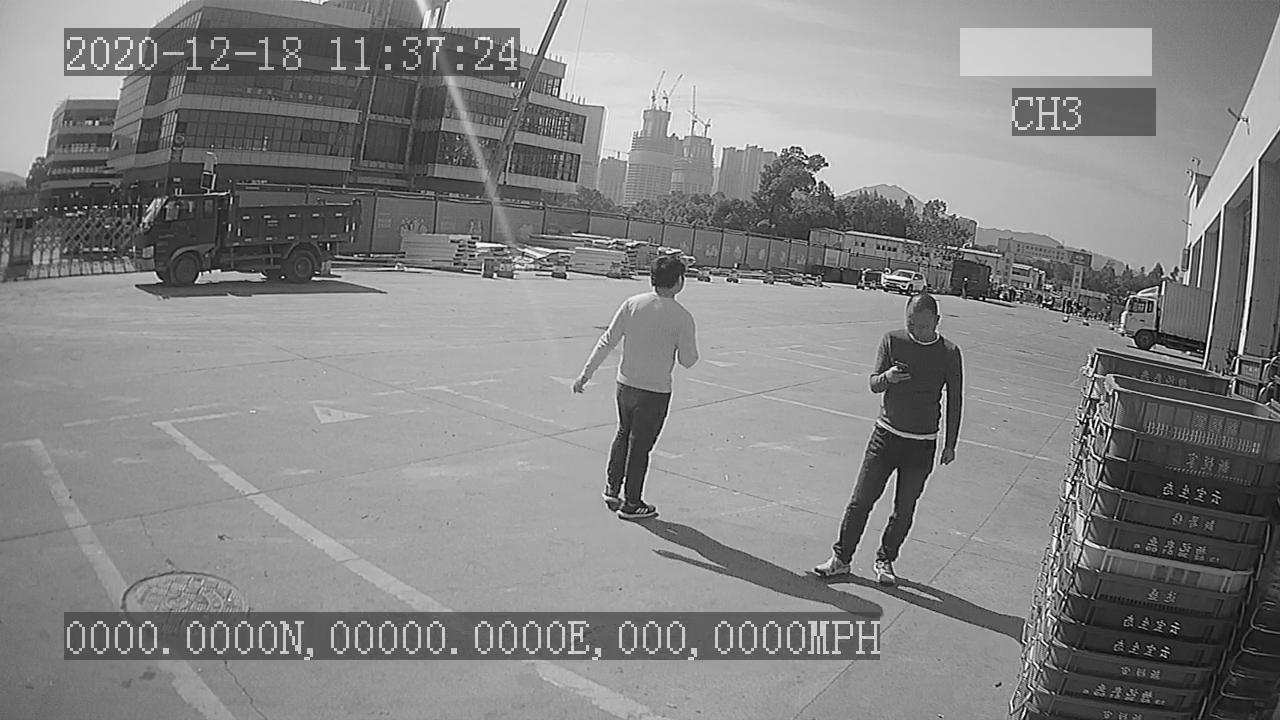person: (811, 289, 963, 590), (572, 248, 704, 527)
